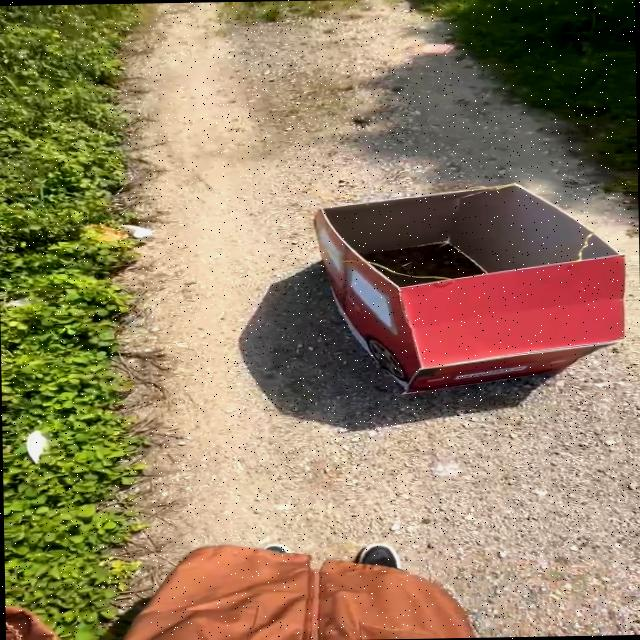red_car: (301, 177, 640, 406)
